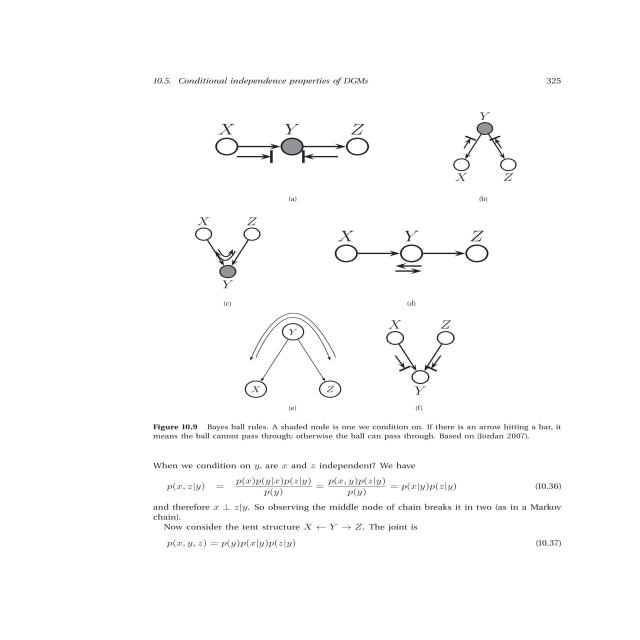diagram: (103, 66, 592, 454)
